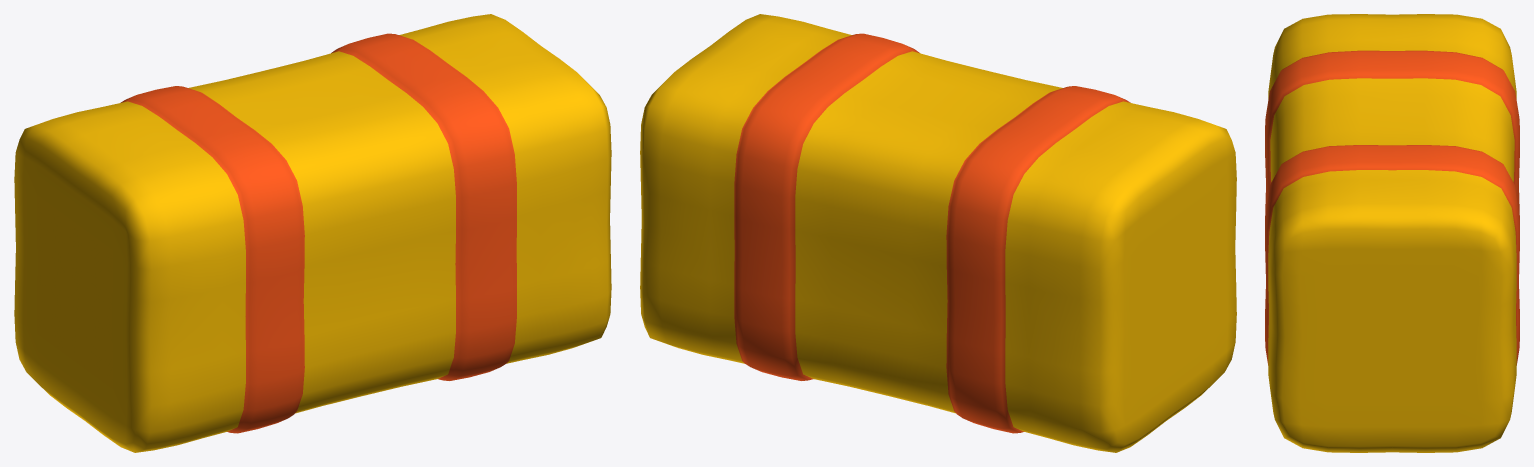
File: Farm_8_Hay_1.glb
3 renders of one model, left to right at view 1: azimuth 30°, elevation 25°; view 2: azimuth 150°, elevation 25°; view 3: azimuth 270°, elevation 25°, orthographic. The views are drawn at different scales.
Parts seen in each view (by area): view 1: Farm_8_Hay_1; view 2: Farm_8_Hay_1; view 3: Farm_8_Hay_1.
Part boxes in pixels (x1,y1,x2,y2): Farm_8_Hay_1: (14, 14, 611, 452); Farm_8_Hay_1: (640, 14, 1236, 452); Farm_8_Hay_1: (1265, 14, 1519, 452).
Bounding box in the file's own units: 1.64 × 0.9259 × 0.844.
1 material, 1 textured.
